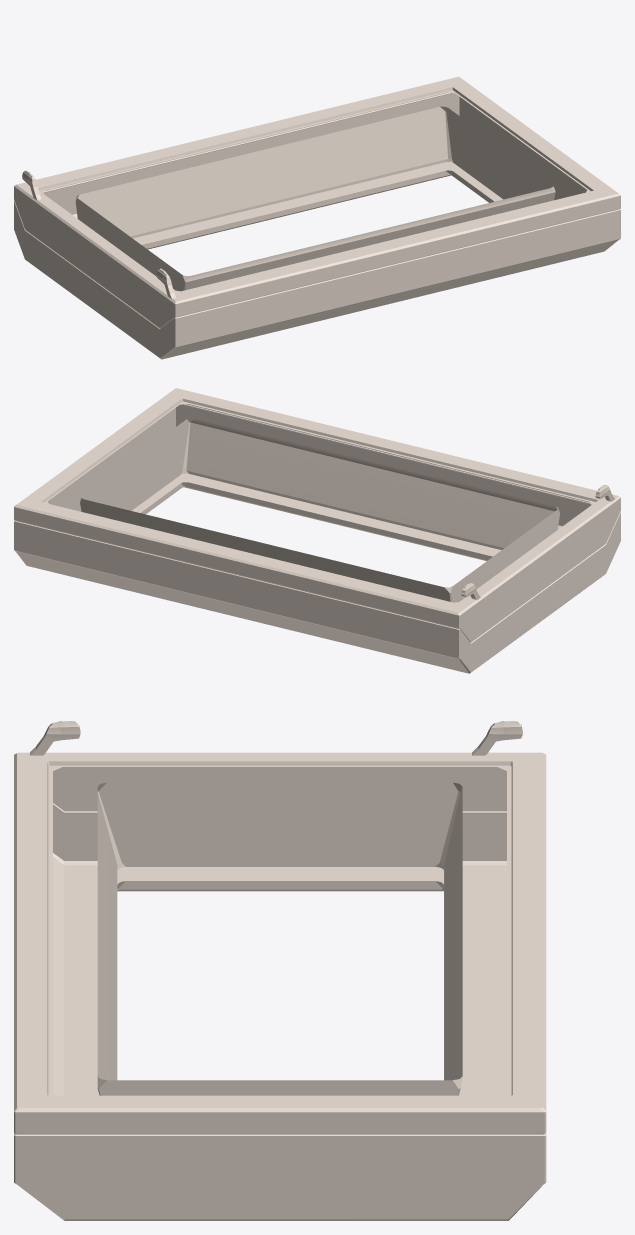
The model's file is DoormeshMicrowaveDoorA5_1_GeomSubset_0.obj.
3 views of the same model, one above another, from view 1: azimuth 30°, elevation 25°; view 2: azimuth 150°, elevation 25°; view 3: azimuth 270°, elevation 25° (orthographic). The views are drawn at different scales.
Parts seen in each view (by area): view 1: DoormeshMicrowaveDoorA5_1_GeomSubset_0; view 2: DoormeshMicrowaveDoorA5_1_GeomSubset_0; view 3: DoormeshMicrowaveDoorA5_1_GeomSubset_0.
Boxes of the visible parts, x1,y1,x2,y2 form: DoormeshMicrowaveDoorA5_1_GeomSubset_0: (14,76,620,359); DoormeshMicrowaveDoorA5_1_GeomSubset_0: (14,388,620,673); DoormeshMicrowaveDoorA5_1_GeomSubset_0: (14,721,546,1220).
Size of the model in its own units: 0.483 by 0.1869 by 0.3458.
